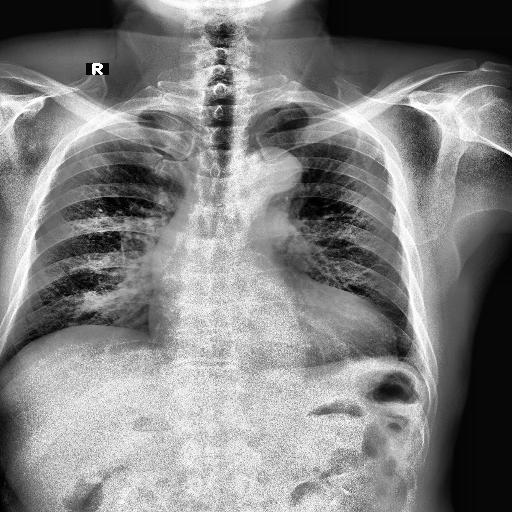0- Aortic enlargement: (229, 145, 303, 200), (246, 146, 302, 204), (253, 147, 303, 194)
3- Cardiomegaly: (148, 282, 396, 360), (141, 288, 395, 356), (145, 300, 397, 360)
